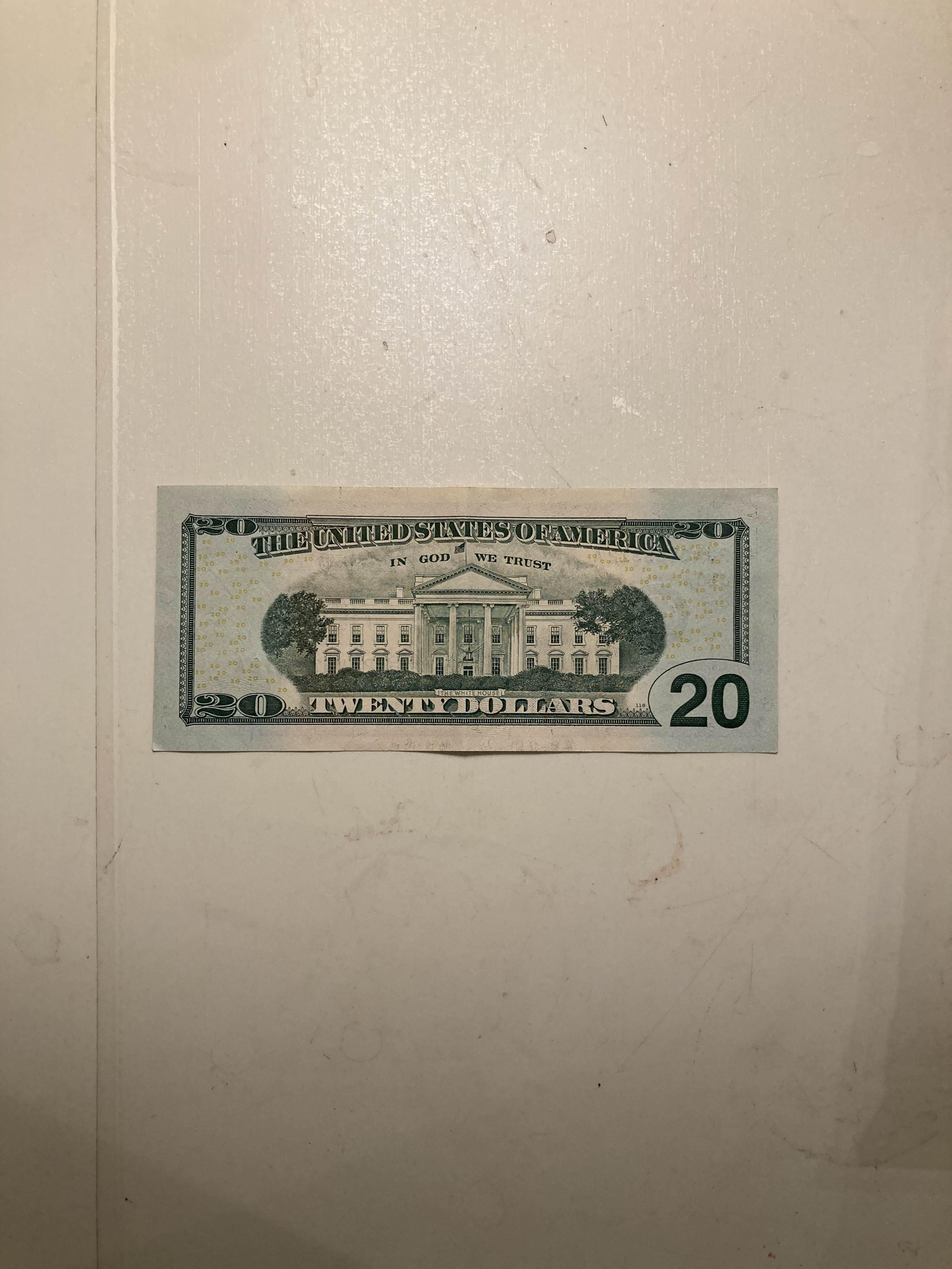twenty-back: (152, 485, 780, 753)
